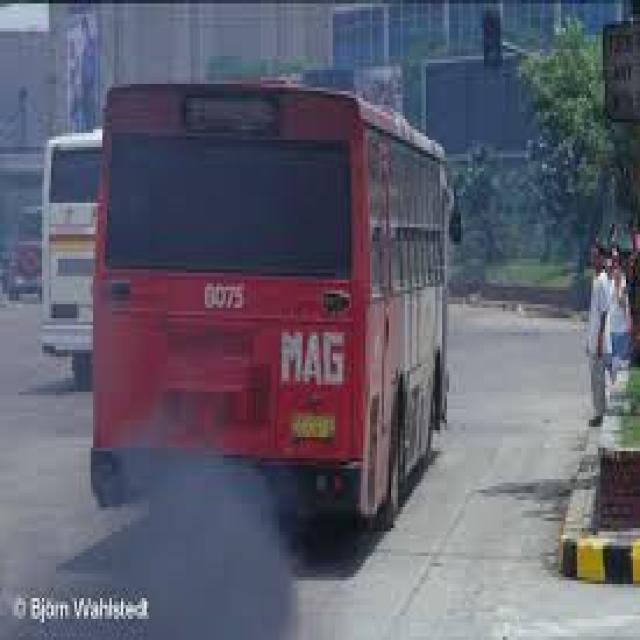Smoke: (109, 430, 298, 640)
